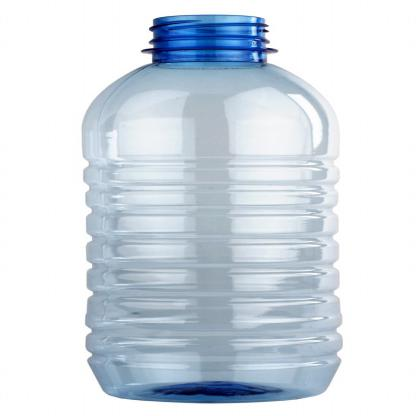plastic-bottles: (68, 11, 351, 405)
